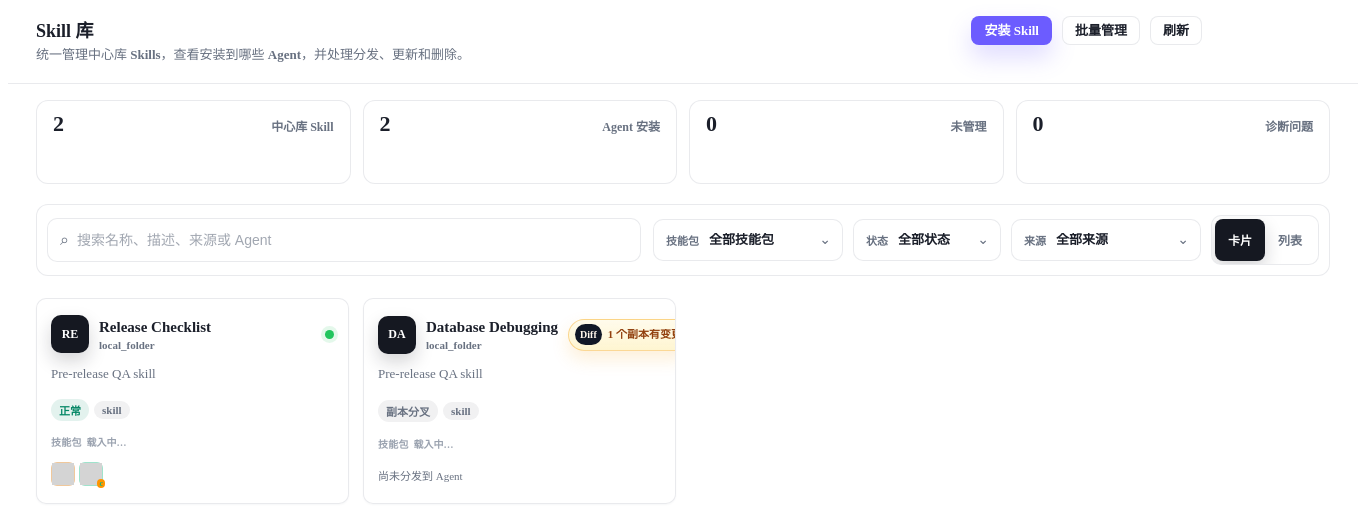
it: Skill library view mode (no Agent matrix) › filters center skills by skill pack membership
Click the button "技能包 全部技能包 ⌄": (748, 240) top-left (653, 219), bottom-right (843, 261)
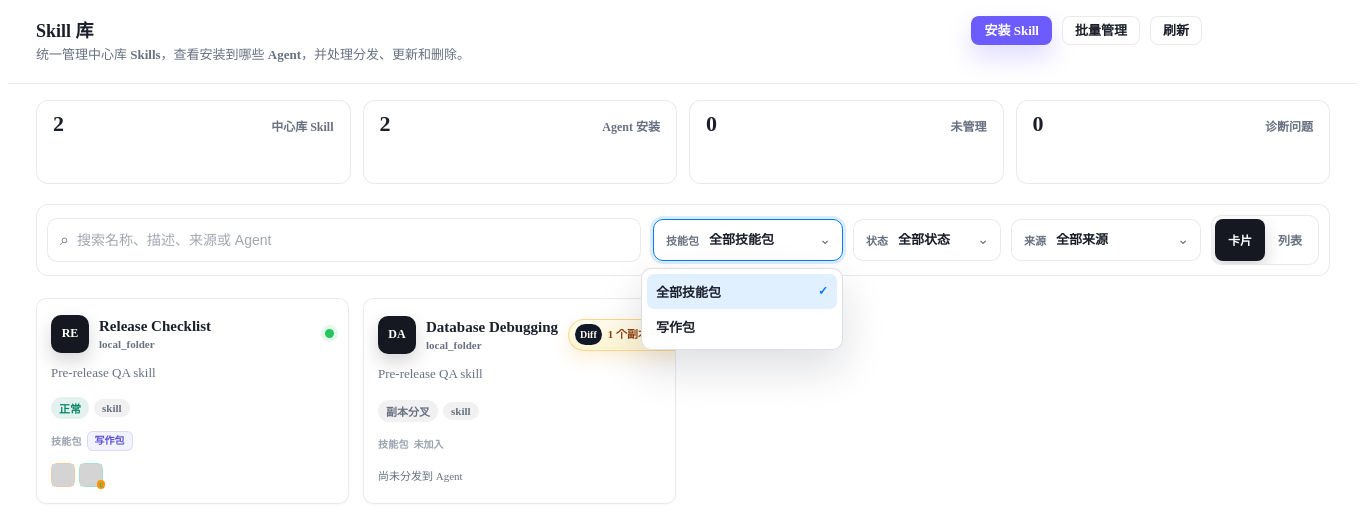
Click the option "写作包": (742, 326) top-left (647, 309), bottom-right (837, 344)
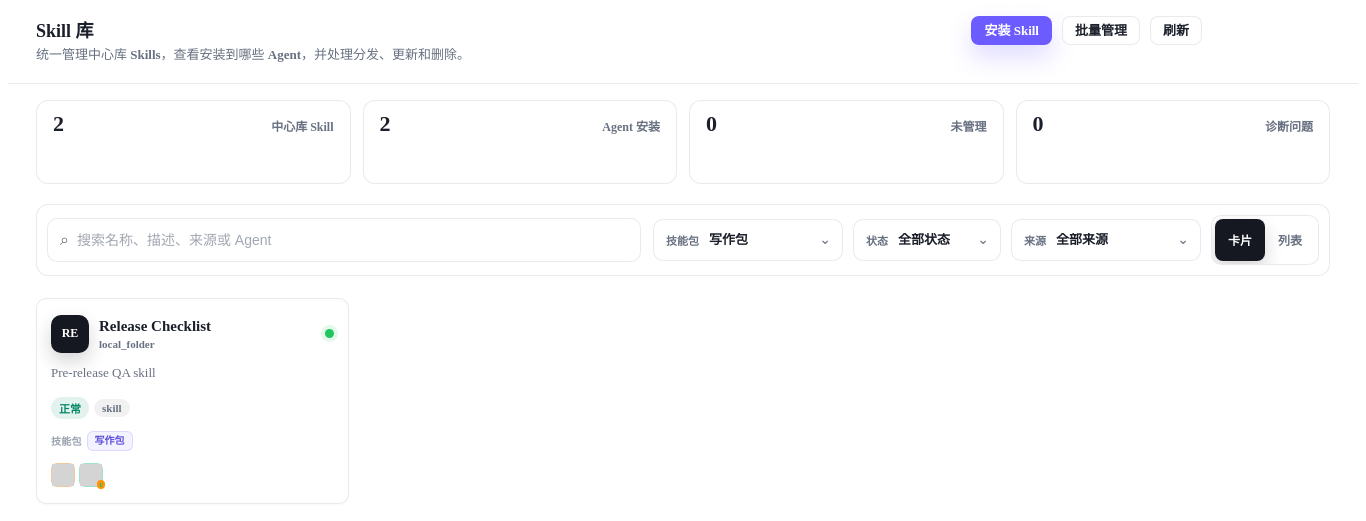
Expected: the heading "Release Checklist" is shown, top-left (99, 318), bottom-right (211, 334)
Now the heading "Database Debugging" is gone
